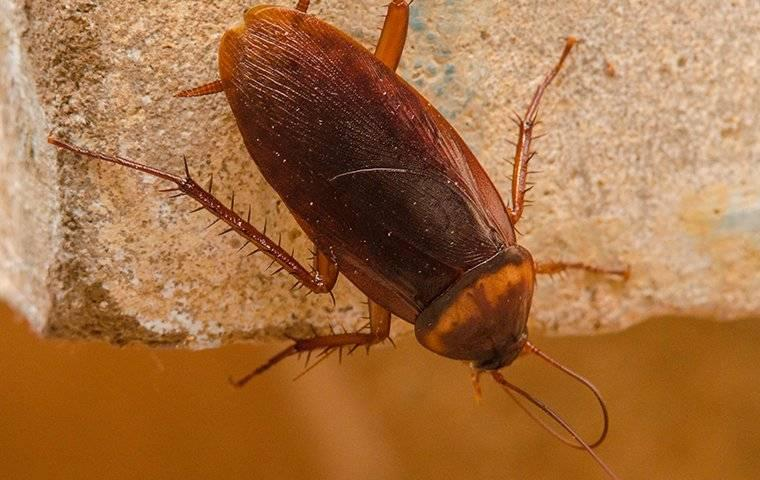cockroach: (206, 4, 537, 375)
